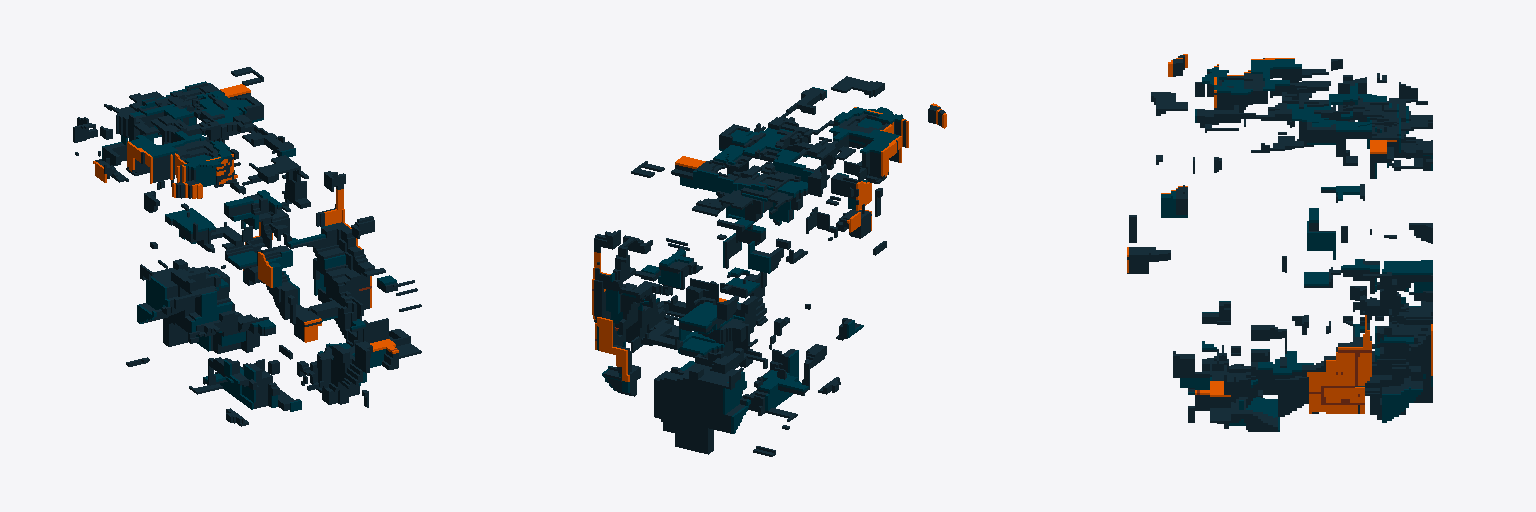
3 views of the same model, side by side, from view 1: azimuth 30°, elevation 25°; view 2: azimuth 150°, elevation 25°; view 3: azimuth 270°, elevation 25° (orthographic).
Parts seen in each view (by area): view 1: object 1; view 2: object 1; view 3: object 1.
Boxes of the visible parts, x1=… form: object 1: x1=73, y1=67, x2=421, y2=426; object 1: x1=592, y1=76, x2=946, y2=456; object 1: x1=1127, y1=54, x2=1432, y2=431.
Bounding box in the file's own units: 12.4 × 12.6 × 12.6.
1 materials, 1 textured.